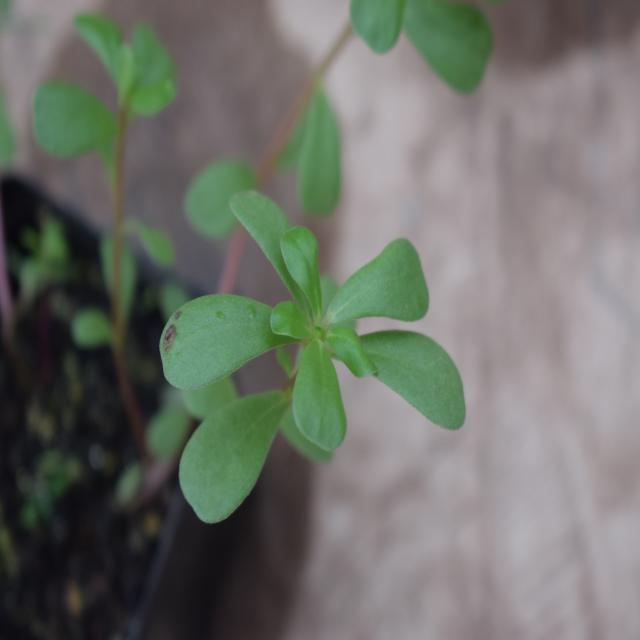purslane: (131, 182, 491, 546)
